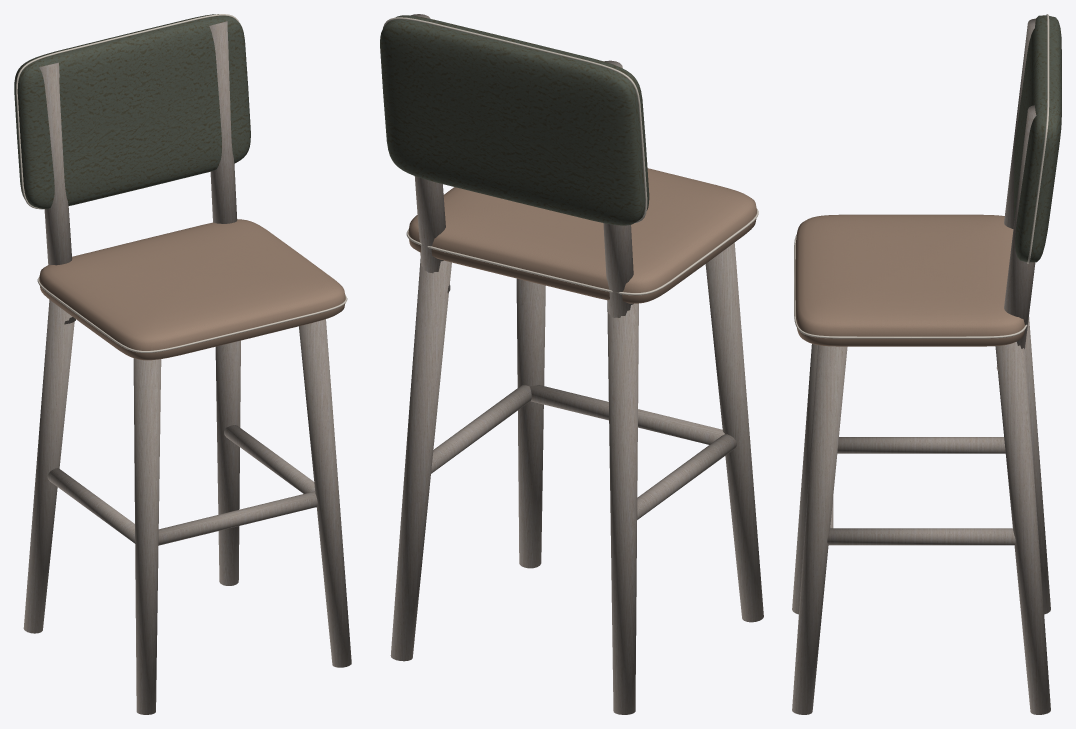
Rendered from modern.stool.gltf.
The picture shows the model from 3 angles, left to right: view 1: azimuth 30°, elevation 25°; view 2: azimuth 150°, elevation 25°; view 3: azimuth 270°, elevation 25°; orthographic projection. The views are drawn at different scales.
Parts seen in each view (by area): view 1: modern.stool.leg; view 2: modern.stool.leg; view 3: modern.stool.leg.
Part boxes in pixels (x1,y1,x2,y2): modern.stool.leg: (14, 14, 351, 714); modern.stool.leg: (380, 14, 763, 714); modern.stool.leg: (792, 14, 1061, 714).
Bounding box in the file's own units: 0.4302 × 1.03 × 0.4184.
4 materials, 3 textured.
